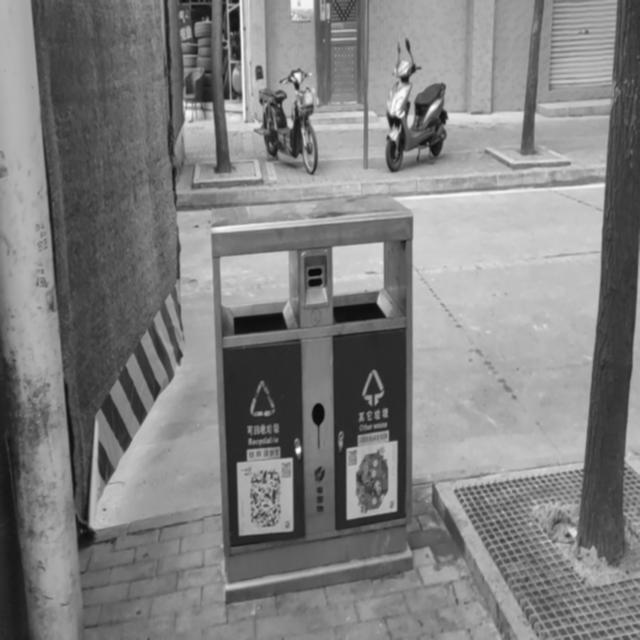ash bin: (210, 192, 413, 601)
motorbike: (385, 37, 448, 171), (254, 62, 318, 175)
pole: (3, 3, 87, 640), (574, 2, 636, 569), (516, 0, 545, 156), (360, 2, 372, 170)
